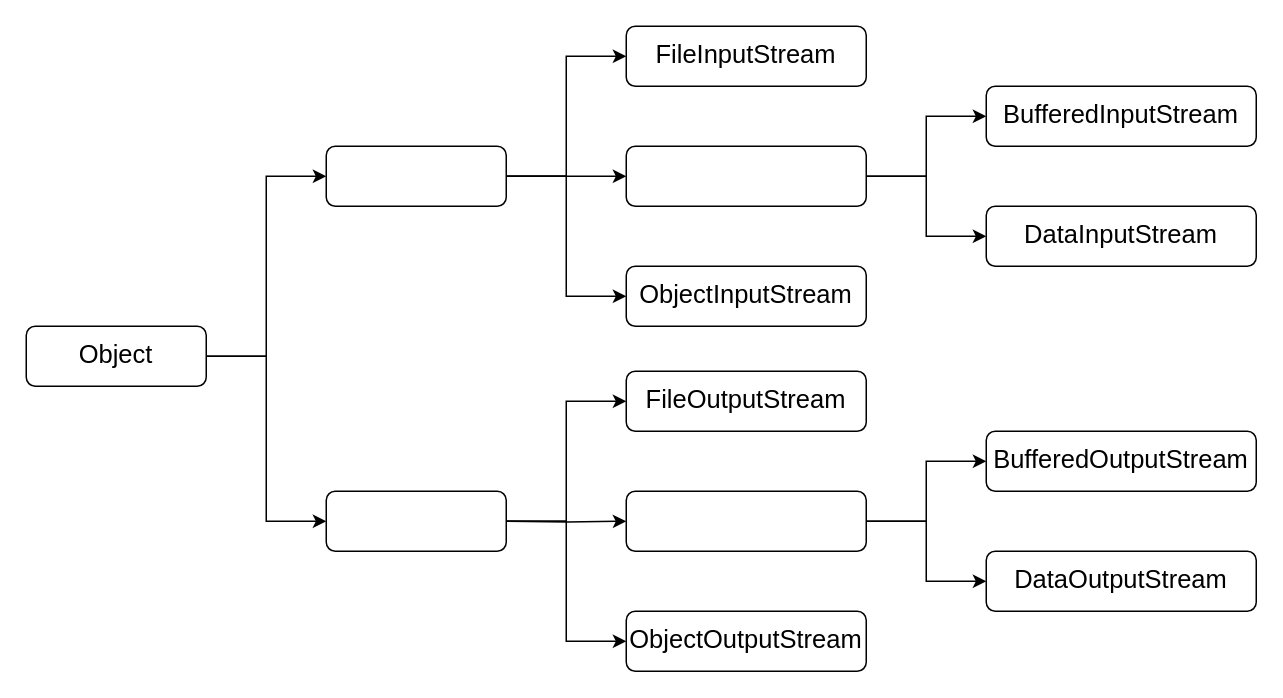
Image size: 1283x698. Some labels were removed from this diagram. The centre of each missing label's shape, as x and y in pixels:
FilterInputStream: [745,175]
FilterOutputStream: [745,520]
InputStream: [415,175]
OutputStream: [415,520]
